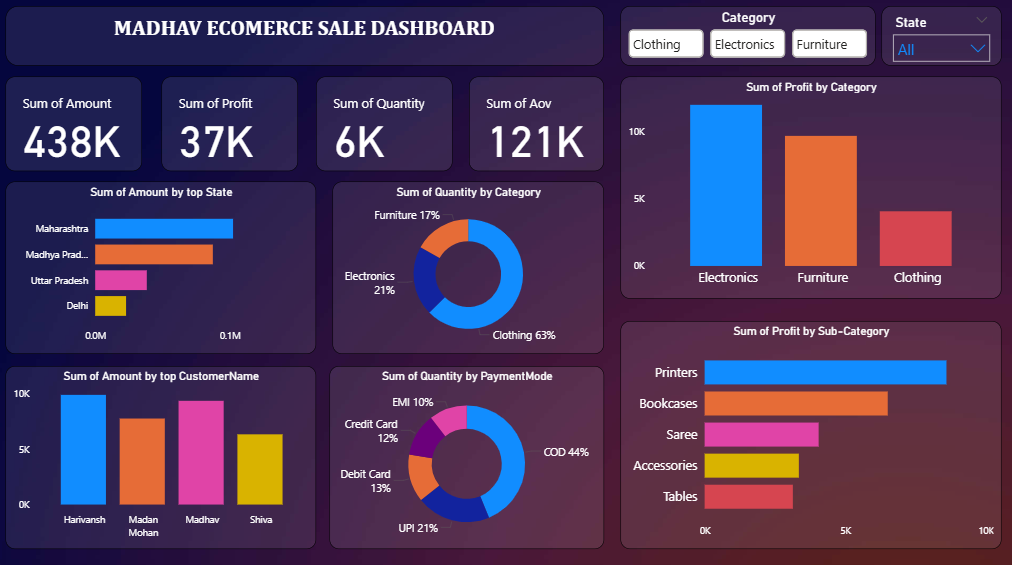

The page's visual inventory and layout, read from the dashboard file:
{"tool":"powerbi","page":{"name":"Page 1","canvas":[1280,720],"ordinal":0},"visuals":[{"type":"textbox","box":[9.4,15.1,754,75.6],"z":4},{"type":"clusteredBarChart","fields":{"Category":["Details.Sub-Category"],"Y":["Sum(Details.Profit)"]},"box":[784.3,412,480,287.2],"z":5},{"type":"donutChart","fields":{"Category":["Details.Category"],"Y":["Sum(Details.Quantity)"]},"box":[421.4,236.2,342,217.3],"z":6},{"type":"donutChart","fields":{"Y":["Sum(Details.Quantity)"],"Category":["Details.PaymentMode"]},"box":[417.6,468.7,345.8,230.6],"z":7},{"type":"cardVisual","fields":{"Data":["Sum(Details.Amount)"]},"box":[9.4,103.9,172,119.1],"z":8},{"type":"cardVisual","fields":{"Data":["Sum(Details.Profit)"]},"box":[206,103.9,172,119.1],"z":9},{"type":"cardVisual","fields":{"Data":["Sum(Details.Quantity)"]},"box":[400.6,103.9,172,119.1],"z":10},{"type":"cardVisual","fields":{"Data":["Sum(Details.Aov)","Sum(Details.Aov)"]},"box":[593.4,103.9,170.1,119.1],"z":11},{"type":"clusteredBarChart","title":"Sum of Amount by top State","fields":{"Y":["Sum(Details.Amount)"],"Category":["Orders.State"]},"box":[9.4,236.2,391.2,217.3],"z":12},{"type":"columnChart","title":"Sum of Amount by top CustomerName","fields":{"Category":["Orders.CustomerName","Orders.State"],"Y":["Sum(Details.Amount)"]},"box":[9.4,468.7,391.2,230.6],"z":13},{"type":"columnChart","fields":{"Category":["Details.Category"],"Y":["Sum(Details.Profit)"]},"box":[784.3,103.9,480,279.7],"z":14},{"type":"advancedSlicerVisual","fields":{"Values":["Details.Category"]},"box":[784.3,15.1,321.3,75.6],"z":15},{"type":"slicer","fields":{"Values":["Orders.State"]},"box":[1113.1,15.1,151.2,75.6],"z":16}]}

Visuals, with their boxes in screenshot pixels (x1, y1, x2, y2), scaled from the page's 1280x720 canvas onto the 1012x565 screenshot:
textbox: 7:12:604:71
clusteredBarChart - Details.Sub-Category x Sum(Details.Profit): 620:323:1000:549
donutChart - Details.Category x Sum(Details.Quantity): 333:185:604:356
donutChart - Sum(Details.Quantity) x Details.PaymentMode: 330:368:604:549
cardVisual - Sum(Details.Amount): 7:82:143:175
cardVisual - Sum(Details.Profit): 163:82:299:175
cardVisual - Sum(Details.Quantity): 317:82:453:175
cardVisual - Sum(Details.Aov) x Sum(Details.Aov): 469:82:604:175
"Sum of Amount by top State" clusteredBarChart: 7:185:317:356
"Sum of Amount by top CustomerName" columnChart: 7:368:317:549
columnChart - Details.Category x Sum(Details.Profit): 620:82:1000:301
advancedSlicerVisual - Details.Category: 620:12:874:71
slicer - Orders.State: 880:12:1000:71
